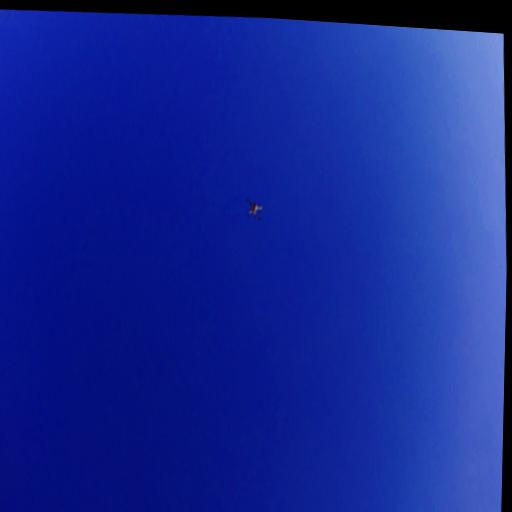drones: (240, 186, 267, 231)
